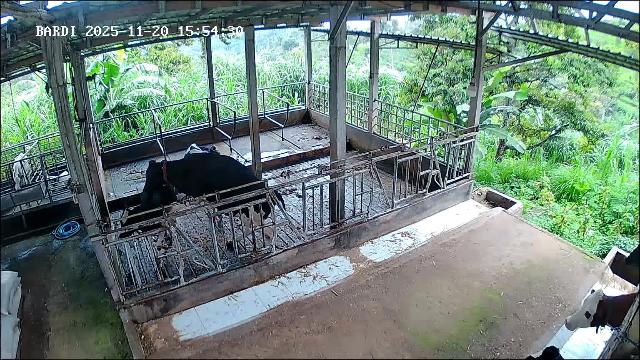mounting: (146, 154, 274, 252)
